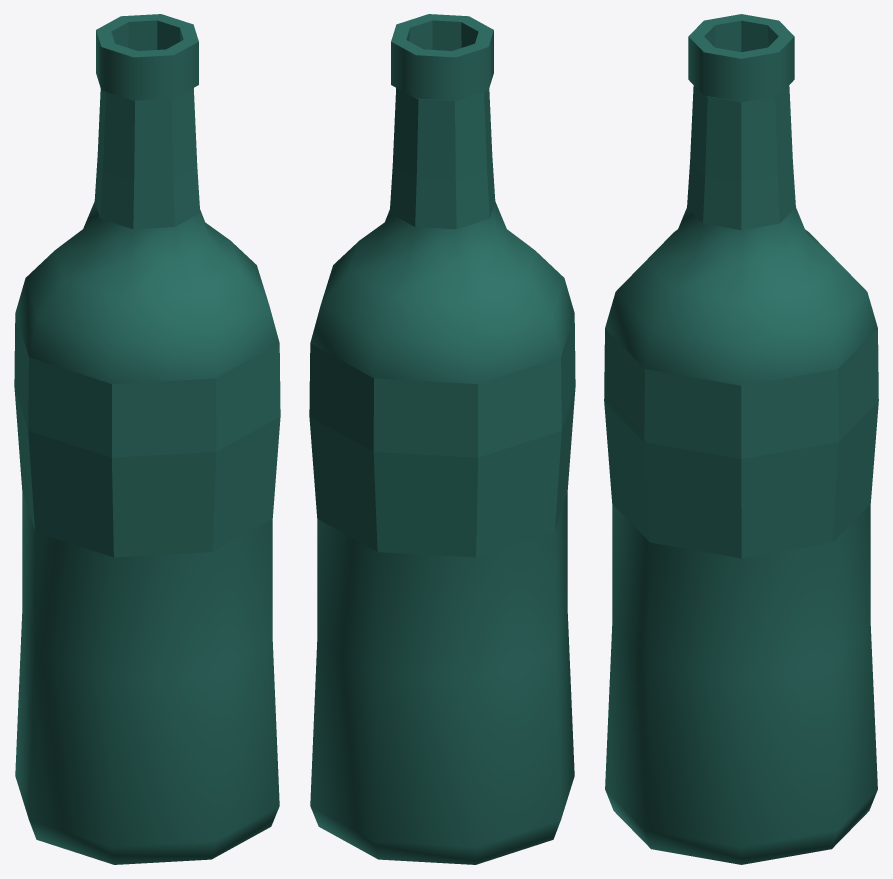
The model's file is SM_glassware_07.fbx.
The picture shows the model from 3 angles, left to right: view 1: azimuth 30°, elevation 25°; view 2: azimuth 150°, elevation 25°; view 3: azimuth 270°, elevation 25°; orthographic projection.
Visible parts, largest first — view 1: glassware_07; view 2: glassware_07; view 3: glassware_07.
Part boxes in pixels (left/top/right/bottom): glassware_07: left=14, top=14, right=280, bottom=864; glassware_07: left=309, top=14, right=575, bottom=864; glassware_07: left=604, top=14, right=878, bottom=864.
Bounding box in the file's own units: 16.29 × 51.25 × 16.29.
